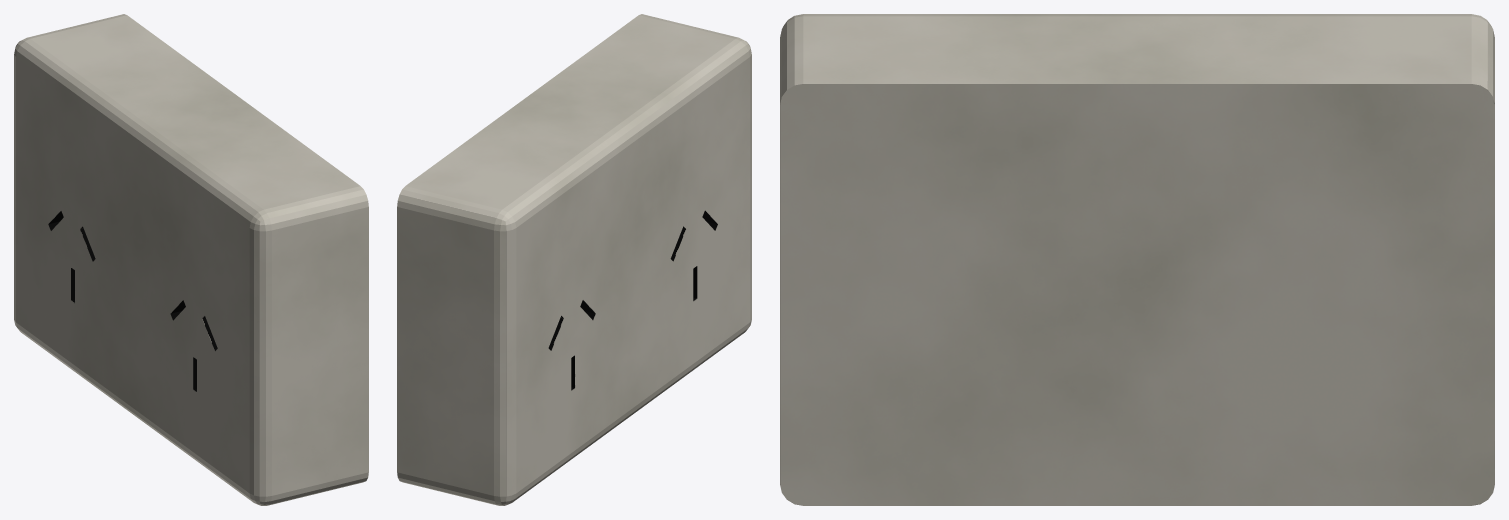
The model's file is PowerPort2.fbx.
3 renders of one model, left to right at view 1: azimuth 30°, elevation 25°; view 2: azimuth 150°, elevation 25°; view 3: azimuth 270°, elevation 25°, orthographic. The views are drawn at different scales.
Parts seen in each view (by area): view 1: Port2; view 2: Port2; view 3: Port2.
Boxes of the visible parts, x1,y1,x2,y2 form: Port2: (14, 14, 368, 505); Port2: (397, 14, 751, 505); Port2: (780, 14, 1494, 505).
Size of the model in its own units: 200 by 508 by 779.
